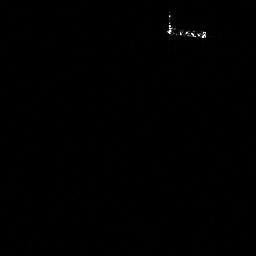ship: (167, 14, 207, 40)
